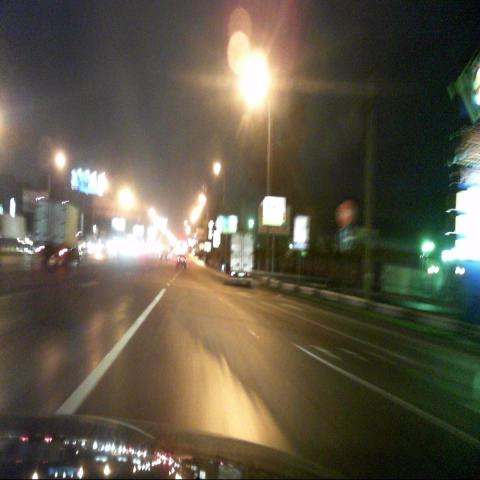2_5: (339, 200, 354, 226)
4_1_4: (339, 226, 354, 249)
